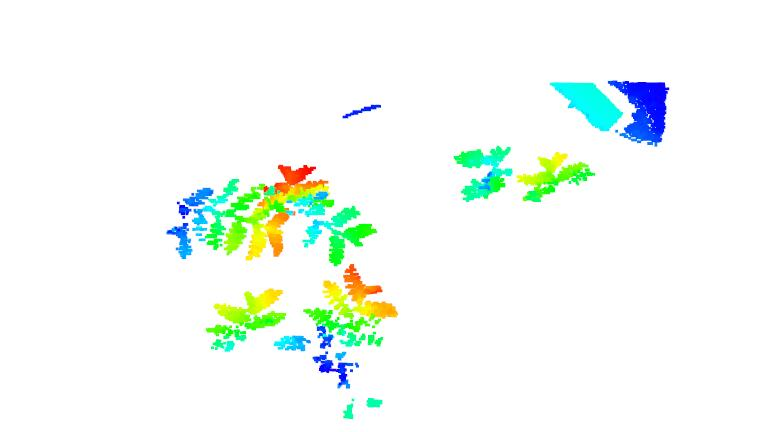chickpea: (280, 266, 399, 419), (265, 162, 380, 263), (159, 175, 285, 260), (205, 281, 288, 359), (521, 146, 592, 207), (454, 138, 511, 206)
